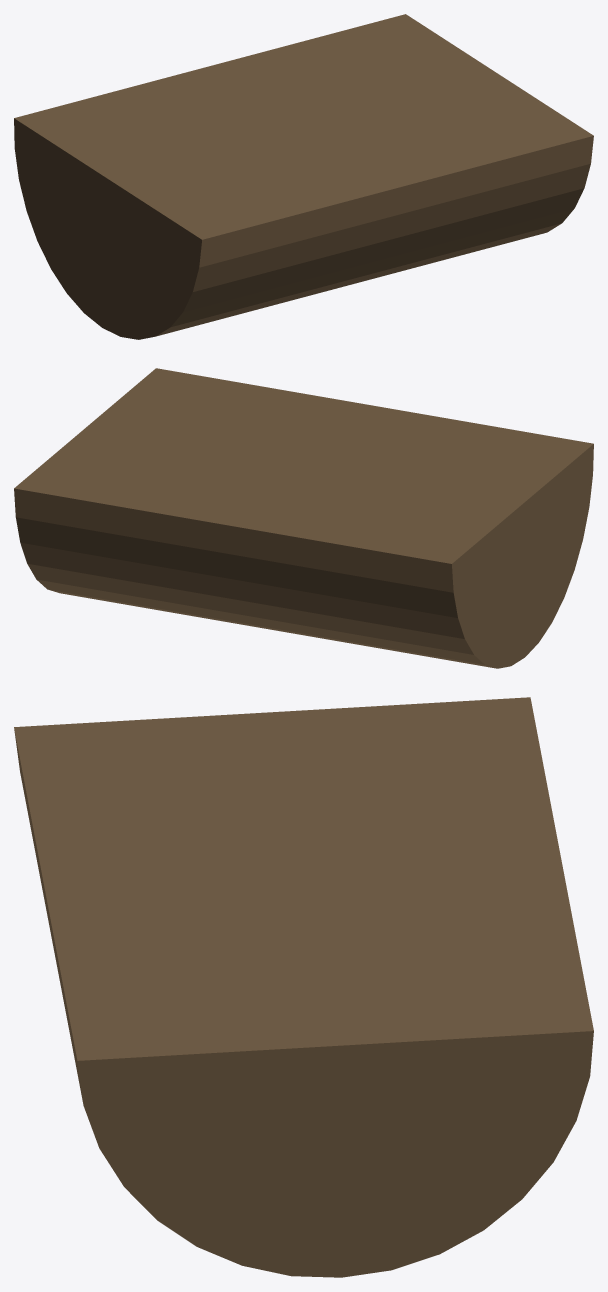
The model's file is TreePlatform.fbx.
3 renders of one model, top to bottom at view 1: azimuth 30°, elevation 25°; view 2: azimuth 150°, elevation 25°; view 3: azimuth 270°, elevation 25°, orthographic. The views are drawn at different scales.
Visible parts, largest first — view 1: Circle; view 2: Circle; view 3: Circle.
Boxes of the visible parts, x1=… form: Circle: x1=14, y1=14, x2=593, y2=339; Circle: x1=14, y1=368, x2=593, y2=668; Circle: x1=14, y1=697, x2=593, y2=1277.
Size of the model in its own units: 306 by 110 by 224.
